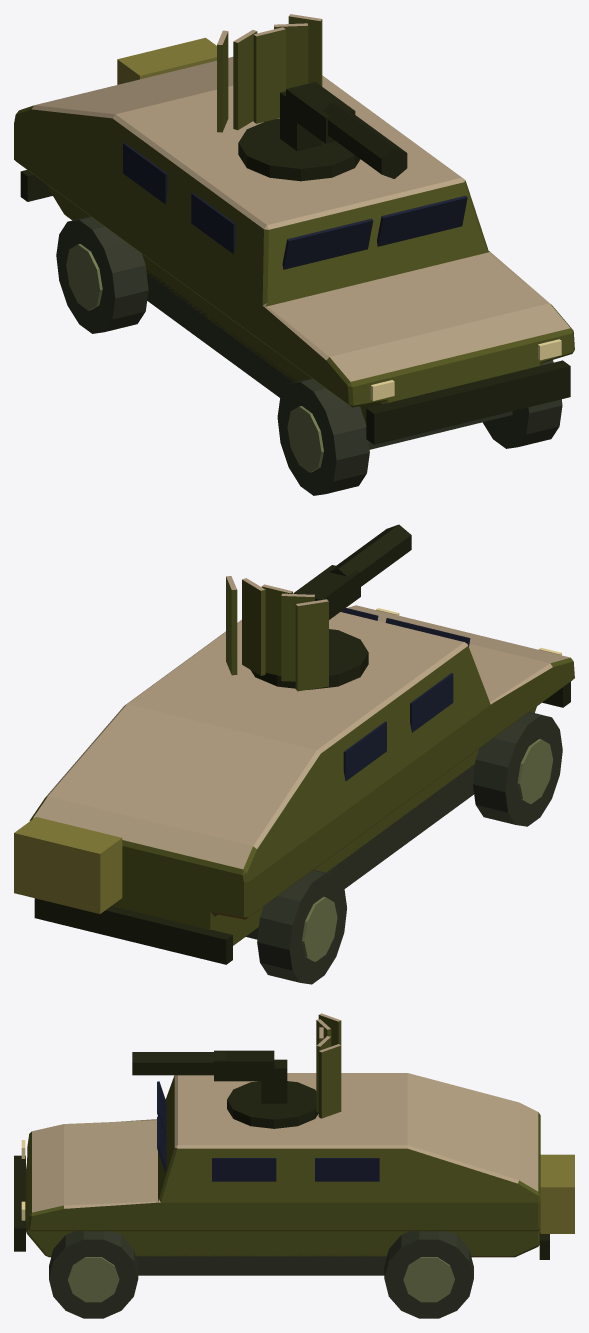
The model's file is SM_V2_Vamtac_LOD1.fbx.
3 views of the same model, one above another, from view 1: azimuth 30°, elevation 25°; view 2: azimuth 150°, elevation 25°; view 3: azimuth 270°, elevation 25° (orthographic). The views are drawn at different scales.
Visible parts, largest first — view 1: SM_vamtac_v2_LOD1; view 2: SM_vamtac_v2_LOD1; view 3: SM_vamtac_v2_LOD1.
Boxes of the visible parts, x1,y1,x2,y2 form: SM_vamtac_v2_LOD1: (14,14,574,495); SM_vamtac_v2_LOD1: (14,524,574,984); SM_vamtac_v2_LOD1: (14,1013,574,1318).
Bounding box in the file's own units: 2.35 × 3.13 × 6.52.
